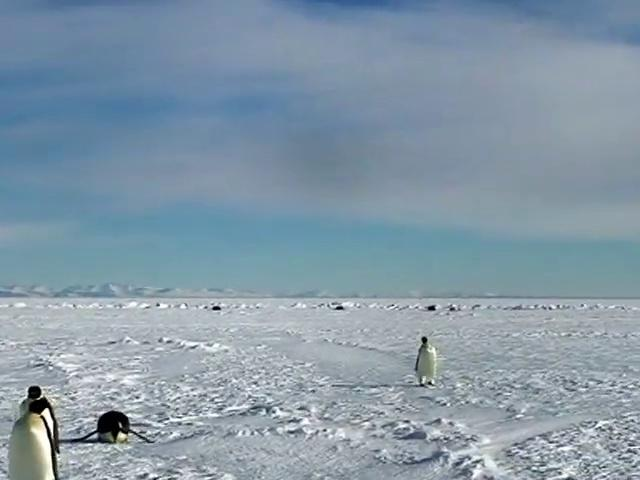animal: (61, 411, 154, 444)
